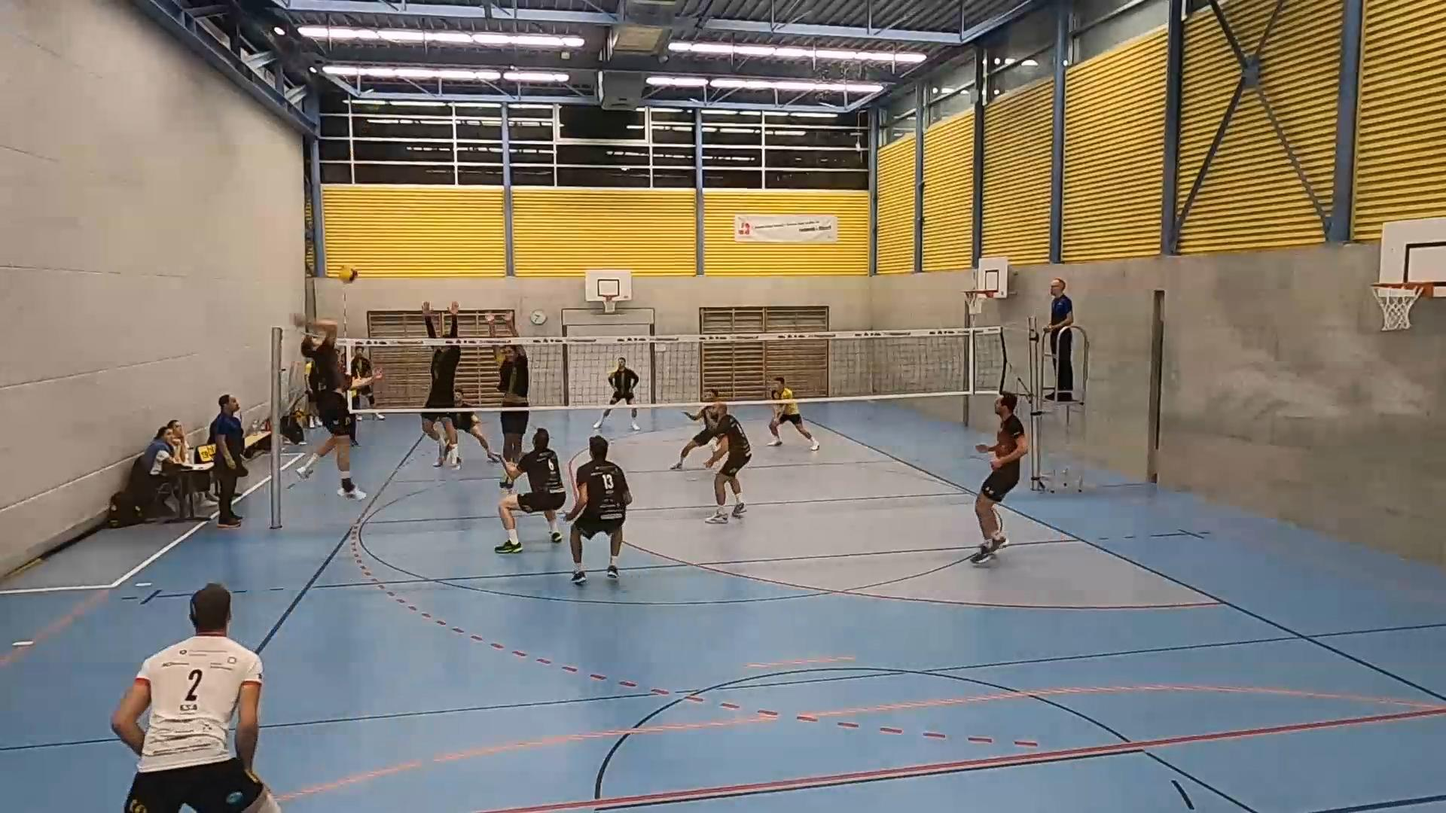attacco: (275, 319, 390, 496)
muro: (478, 304, 531, 481), (418, 300, 468, 469)
